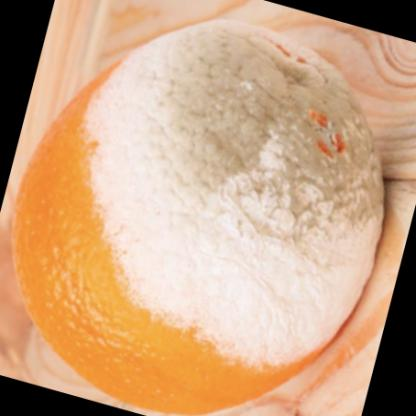rotten: (13, 22, 386, 416)
